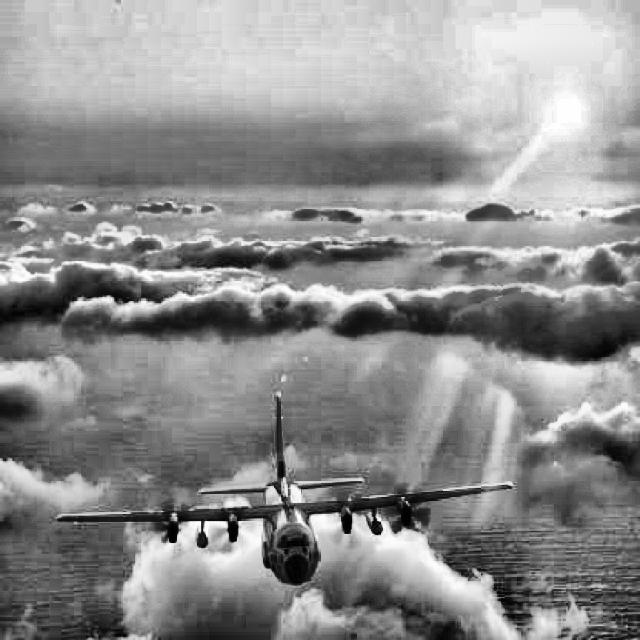C130: (56, 392, 513, 586)
